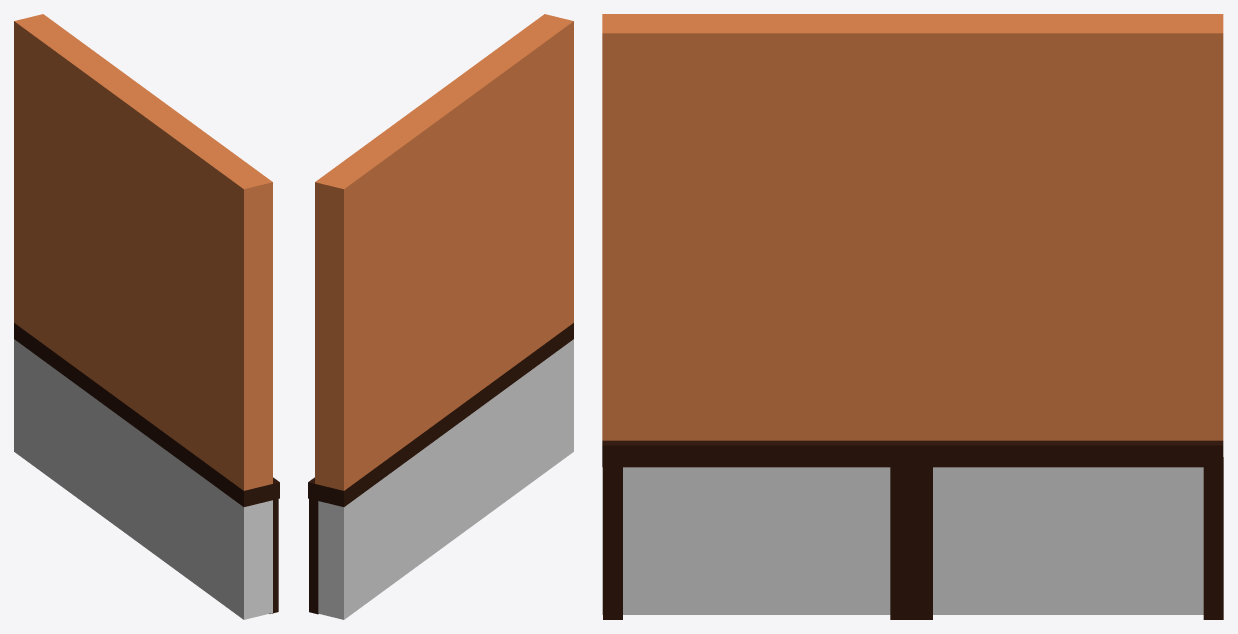
The model's file is wall.fbx.
3 renders of one model, left to right at view 1: azimuth 30°, elevation 25°; view 2: azimuth 150°, elevation 25°; view 3: azimuth 270°, elevation 25°, orthographic. The views are drawn at different scales.
Visible parts, largest first — view 1: Wall; view 2: Wall; view 3: Wall.
Part boxes in pixels (x1=…): Wall: x1=14, y1=14, x2=279, y2=619; Wall: x1=308, y1=14, x2=573, y2=619; Wall: x1=602, y1=14, x2=1223, y2=619.
Size of the model in its own units: 142 by 1625 by 1569.
